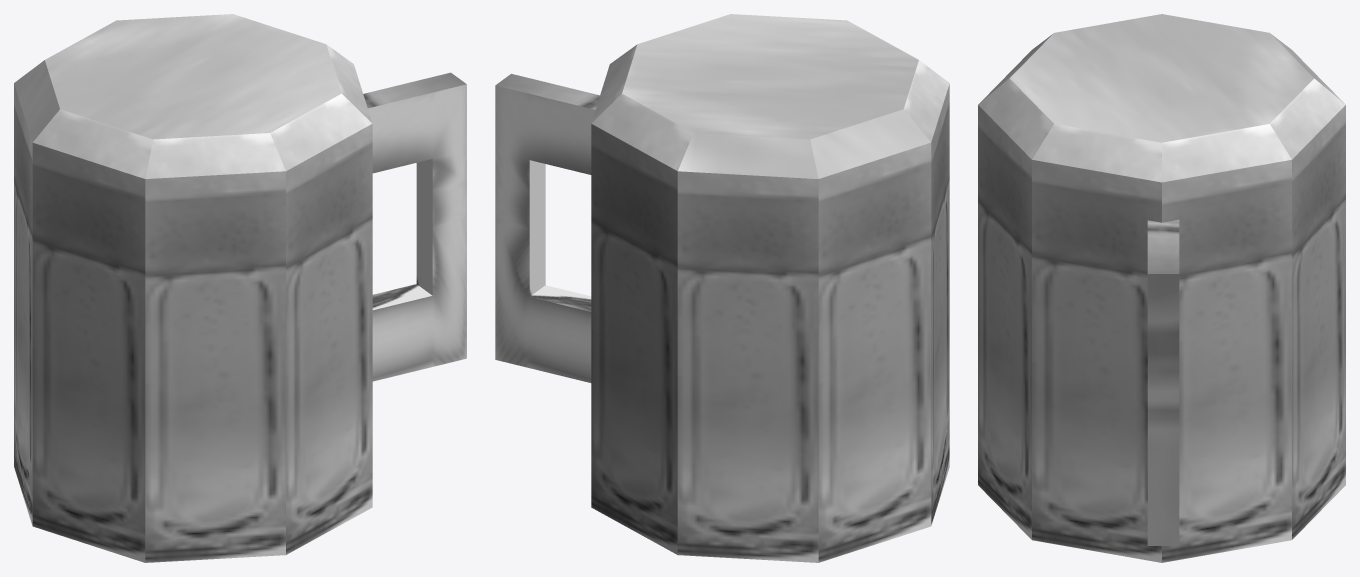
File: beer.glb
3 renders of one model, left to right at view 1: azimuth 30°, elevation 25°; view 2: azimuth 150°, elevation 25°; view 3: azimuth 270°, elevation 25°, orthographic.
Parts seen in each view (by area): view 1: Circle; view 2: Circle; view 3: Circle.
Boxes of the visible parts, x1=… form: Circle: x1=14, y1=14, x2=466, y2=562; Circle: x1=495, y1=14, x2=949, y2=562; Circle: x1=978, y1=14, x2=1345, y2=562.
Size of the model in its own units: 0.2711 by 0.249 by 0.204.
1 material, 1 textured.
